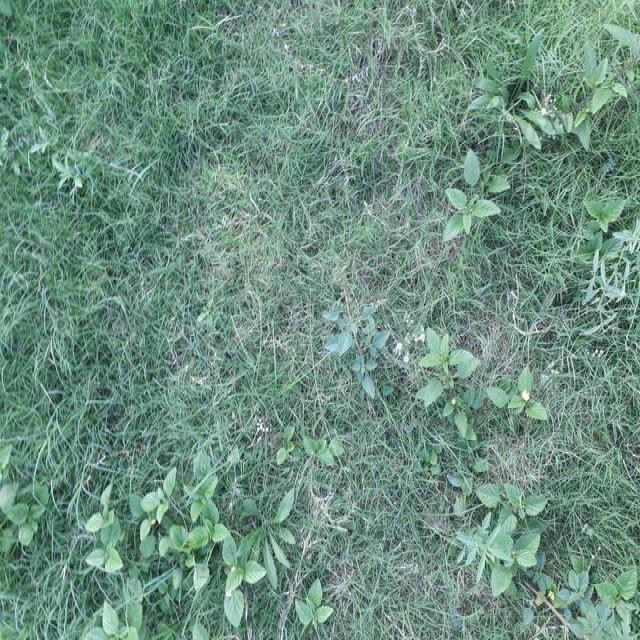weed: (325, 307, 540, 441), (152, 483, 298, 609), (471, 66, 610, 150), (446, 476, 548, 584), (74, 499, 142, 640), (438, 151, 512, 231), (0, 460, 39, 554)
